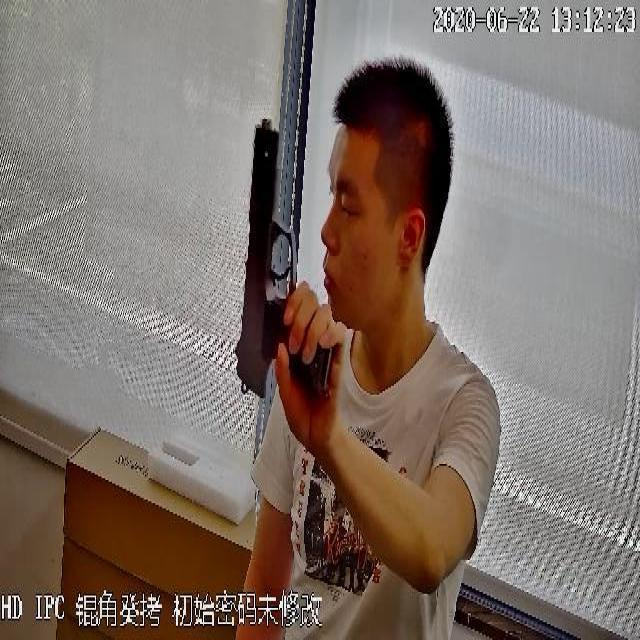pistol: (238, 119, 331, 412)
